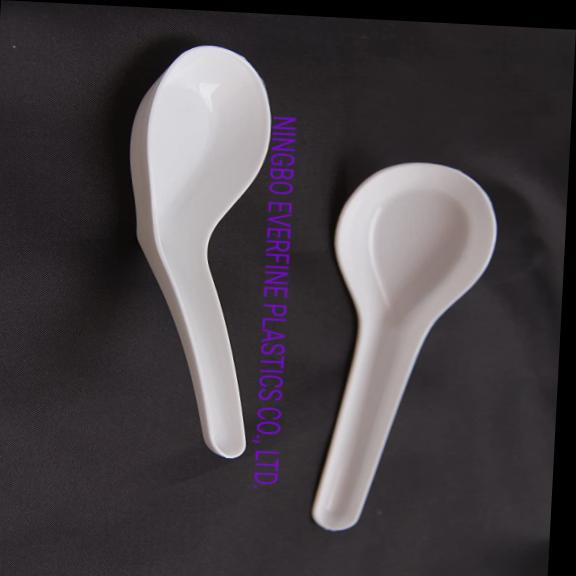Plastik: (311, 163, 495, 530), (130, 46, 270, 457)
